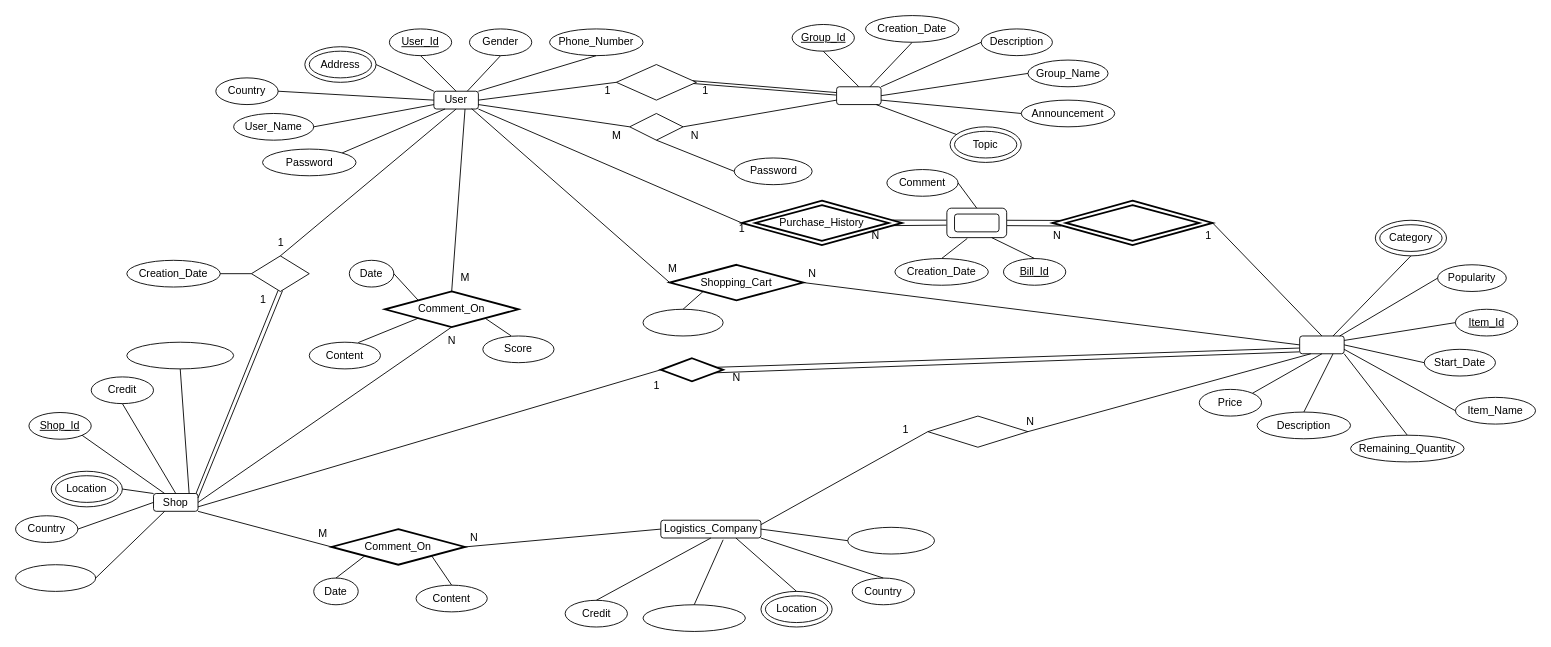
Some shapes in this 1551 by 647 pixel diagram are drawn without their labels. Here are the shapes that lost their labels. From the top down, the centre of each, then its label:
At (655,82): "Manages".
At (858,95): "Group".
At (656,126): "Joins".
At (976,222): "Bill".
At (1132,222): "Belongs_To".
At (280,273): "Owns".
At (682,322): "Add_Date".
At (180,355): "Business_License".
At (1321,344): "Item".
At (691,369): "Has".
At (977,431): "Transport".
At (890,540): "Company_Id".
At (55,577): "Shop_Name".
At (693,617): "Company_Name".
